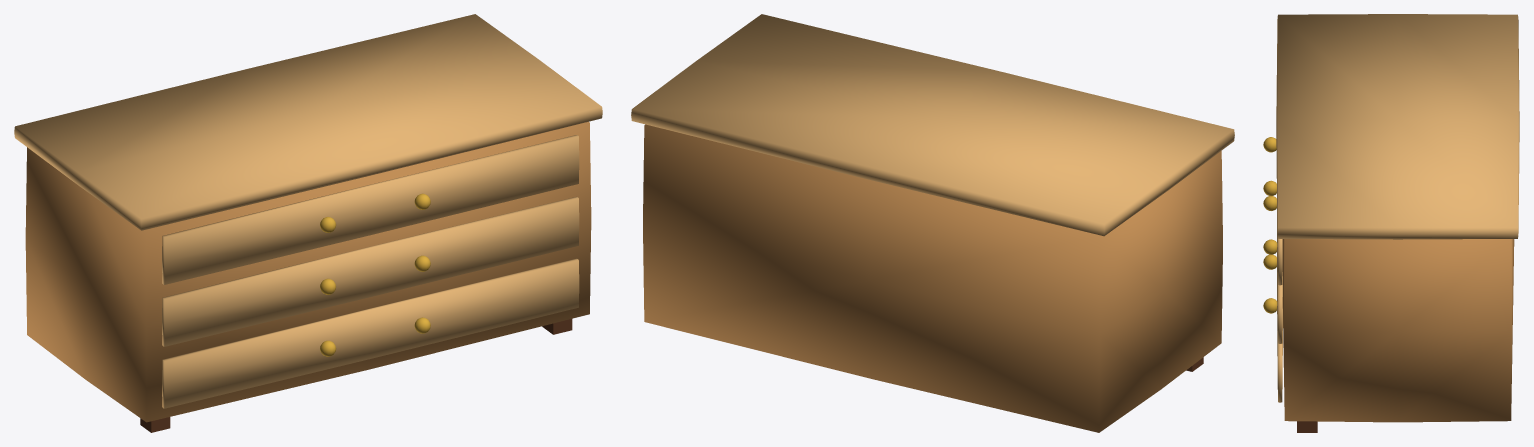
Rendered from drawer_unit.glb.
3 renders of one model, left to right at view 1: azimuth 30°, elevation 25°; view 2: azimuth 150°, elevation 25°; view 3: azimuth 270°, elevation 25°, orthographic. The views are drawn at different scales.
Parts seen in each view (by area): view 1: root; view 2: root; view 3: root.
Part boxes in pixels (x1,y1,x2,y2): root: (14, 14, 602, 432); root: (631, 14, 1234, 432); root: (1263, 14, 1519, 432).
Bounding box in the file's own units: 1.96 × 0.92 × 0.99.
